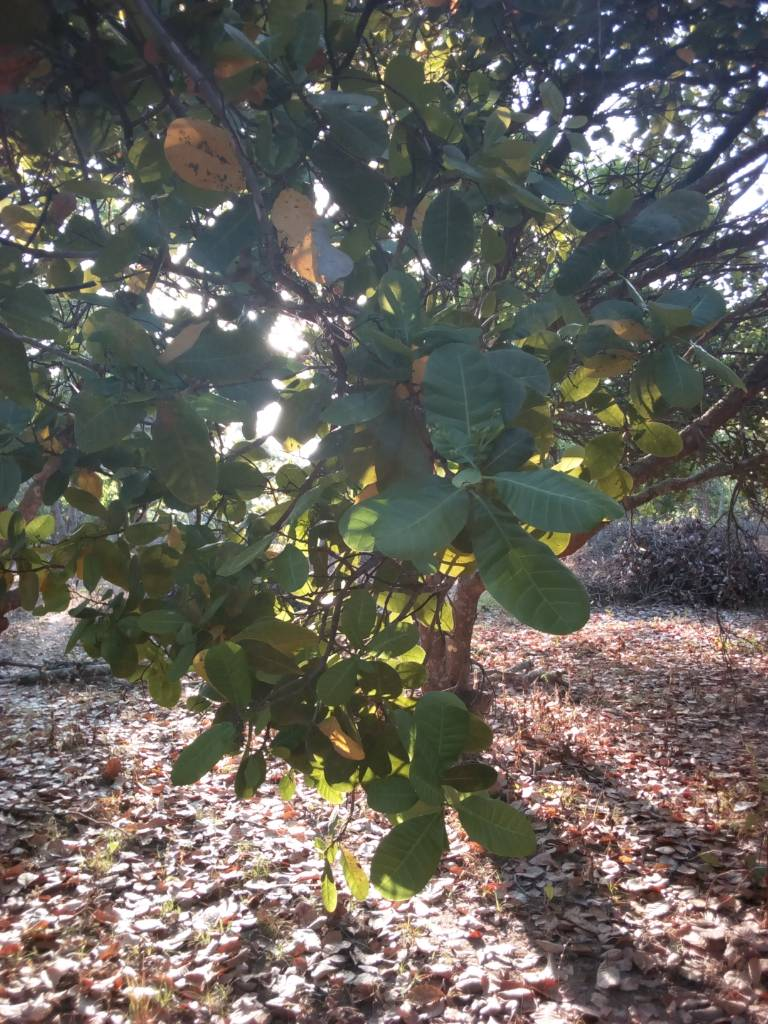Bactériose: (163, 121, 247, 189)
